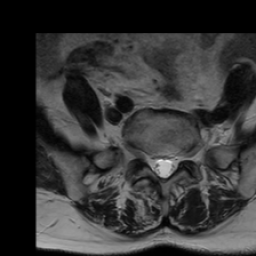CCS_normal: (160, 148, 167, 182)
LFS_normal: (178, 144, 186, 168)
LLS_normal: (168, 150, 177, 177)
RFS_normal: (143, 145, 152, 172)
RLS_normal: (152, 150, 160, 178)
